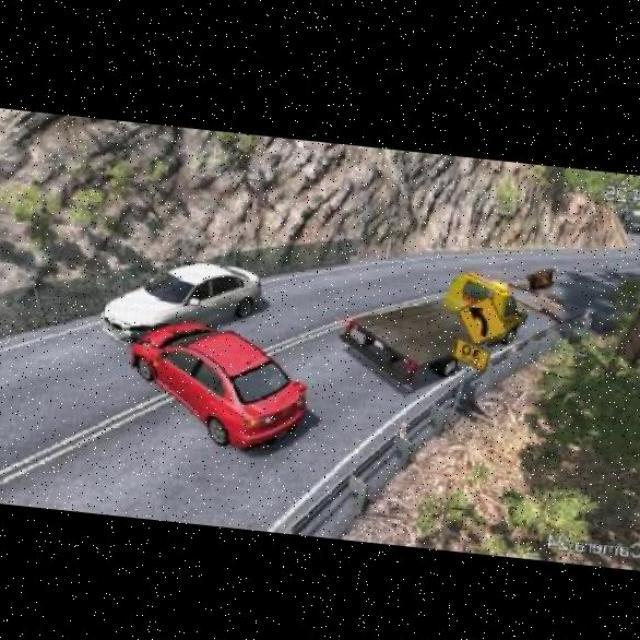accident: (86, 263, 318, 458)
